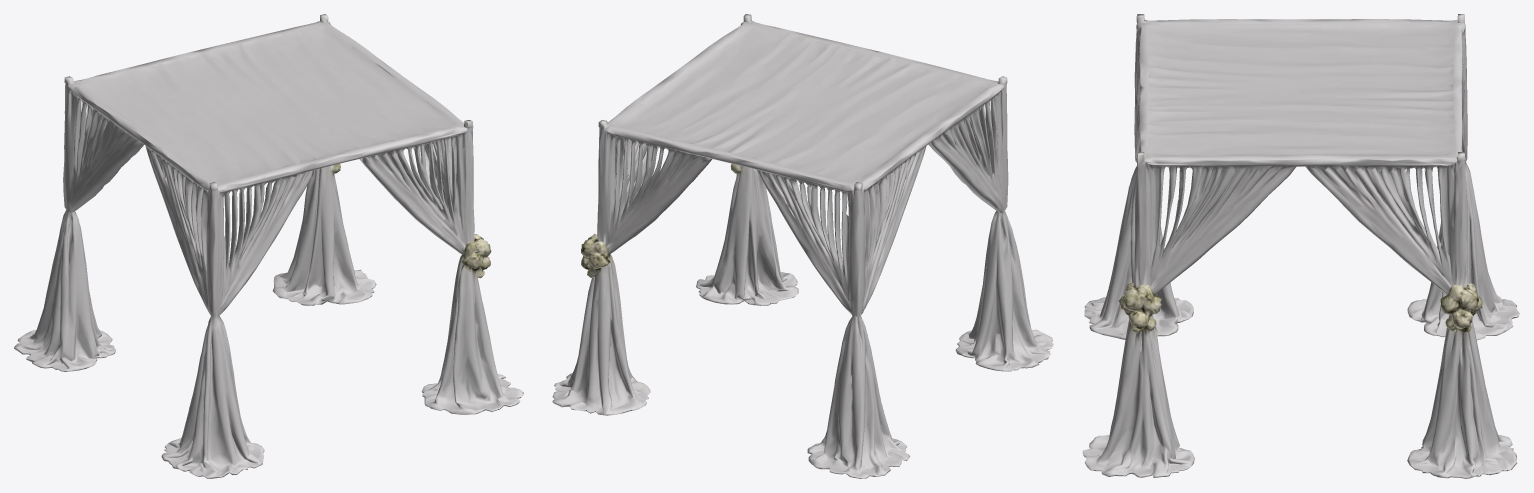
File: chuppah-draped-white.glb
3 renders of one model, left to right at view 1: azimuth 30°, elevation 25°; view 2: azimuth 150°, elevation 25°; view 3: azimuth 270°, elevation 25°, orthographic. The views are drawn at different scales.
Visible parts, largest first — view 1: tripo_node_f796a238-e5e0-4883-bab5-cf8e493dc861; view 2: tripo_node_f796a238-e5e0-4883-bab5-cf8e493dc861; view 3: tripo_node_f796a238-e5e0-4883-bab5-cf8e493dc861.
Part boxes in pixels (x1,y1,x2,y2): tripo_node_f796a238-e5e0-4883-bab5-cf8e493dc861: [14, 14, 523, 478]; tripo_node_f796a238-e5e0-4883-bab5-cf8e493dc861: [552, 14, 1053, 478]; tripo_node_f796a238-e5e0-4883-bab5-cf8e493dc861: [1082, 14, 1519, 478].
Bounding box in the file's own units: 3.48 × 2.65 × 3.47.
1 material, 1 textured.
